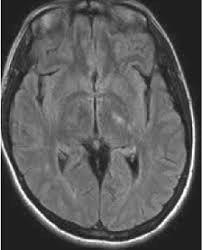Normal_Brain: (8, 4, 202, 250)
